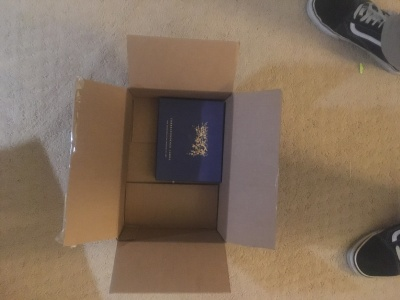innerbox: (124, 86, 230, 241)
outerbox: (71, 35, 277, 293)
product: (156, 97, 221, 184)
